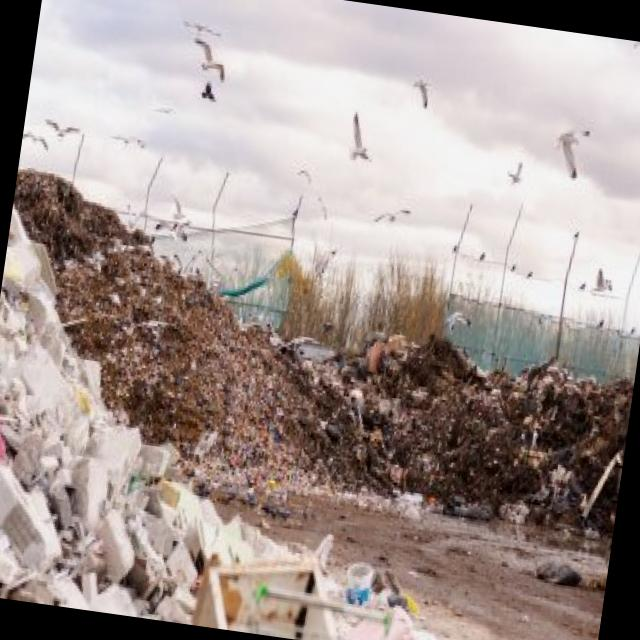garbage: (0, 151, 618, 640)
